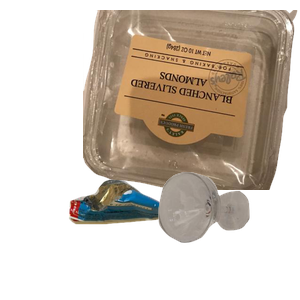glass: (156, 170, 300, 300)
metal: (105, 63, 300, 192)
plastic: (83, 10, 300, 190)
trash: (66, 173, 272, 300)
